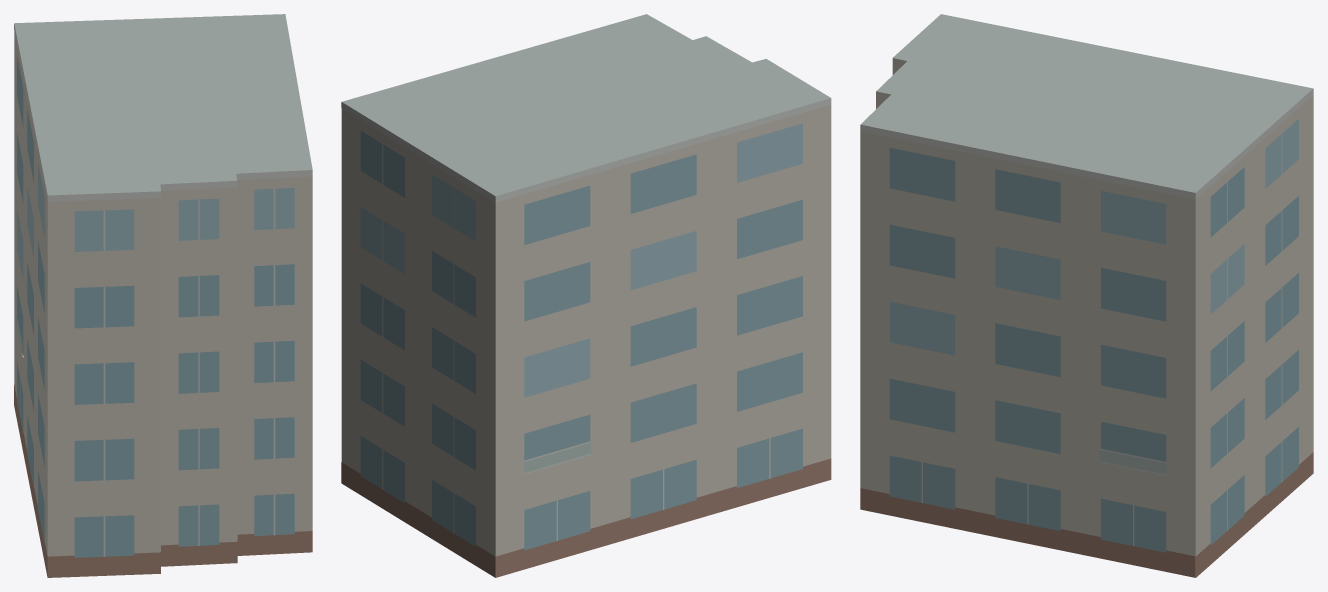
The model's file is survey-upis-33046921.glb.
The picture shows the model from 3 angles, left to right: view 1: azimuth 30°, elevation 25°; view 2: azimuth 150°, elevation 25°; view 3: azimuth 270°, elevation 25°; orthographic projection.
Parts seen in each view (by area): view 1: survey-upis-33046921.tmp; view 2: survey-upis-33046921.tmp; view 3: survey-upis-33046921.tmp.
Boxes of the visible parts, x1,y1,x2,y2 form: survey-upis-33046921.tmp: (14,14,312,577); survey-upis-33046921.tmp: (341,14,831,577); survey-upis-33046921.tmp: (860,14,1313,577).
Bounding box in the file's own units: 14.41 × 14.45 × 15.42.
